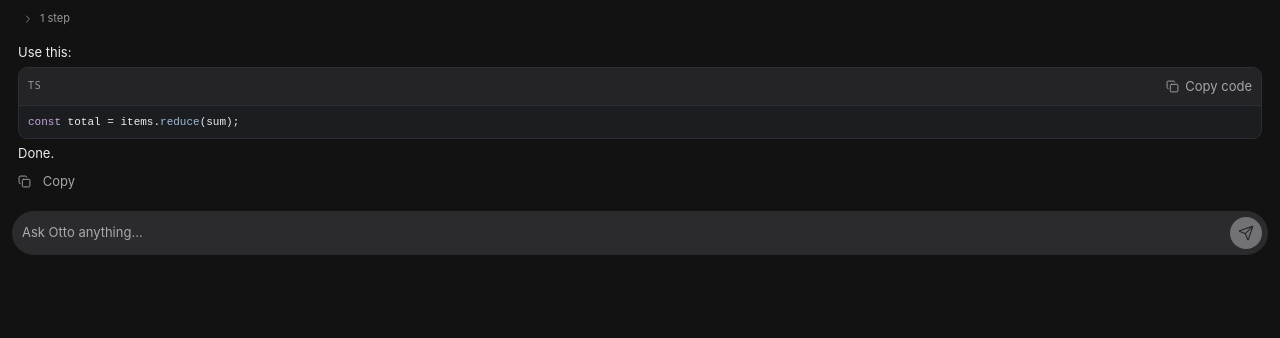
Agent activity trail › single completed thinking step opens its detail directly on summary click
Click the button "1 step".
click(46, 19)  # box left=18, top=7, right=74, bottom=31
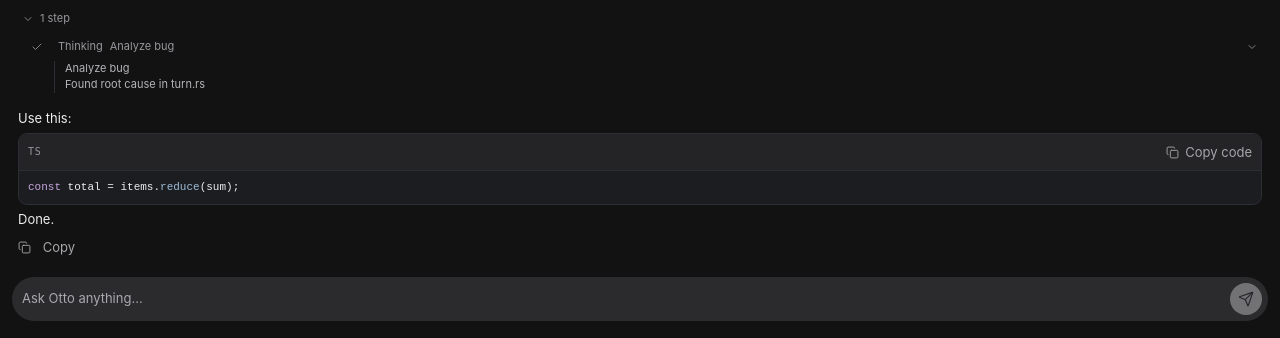
Now the text "Analyze bug Found root cause in turn.rs" is shown, box left=54, top=61, right=1262, bottom=93
